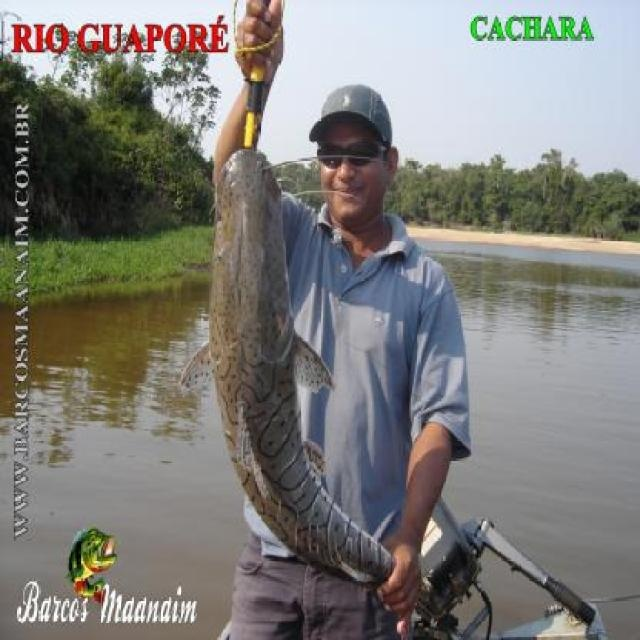obstacle: (212, 5, 472, 638)
